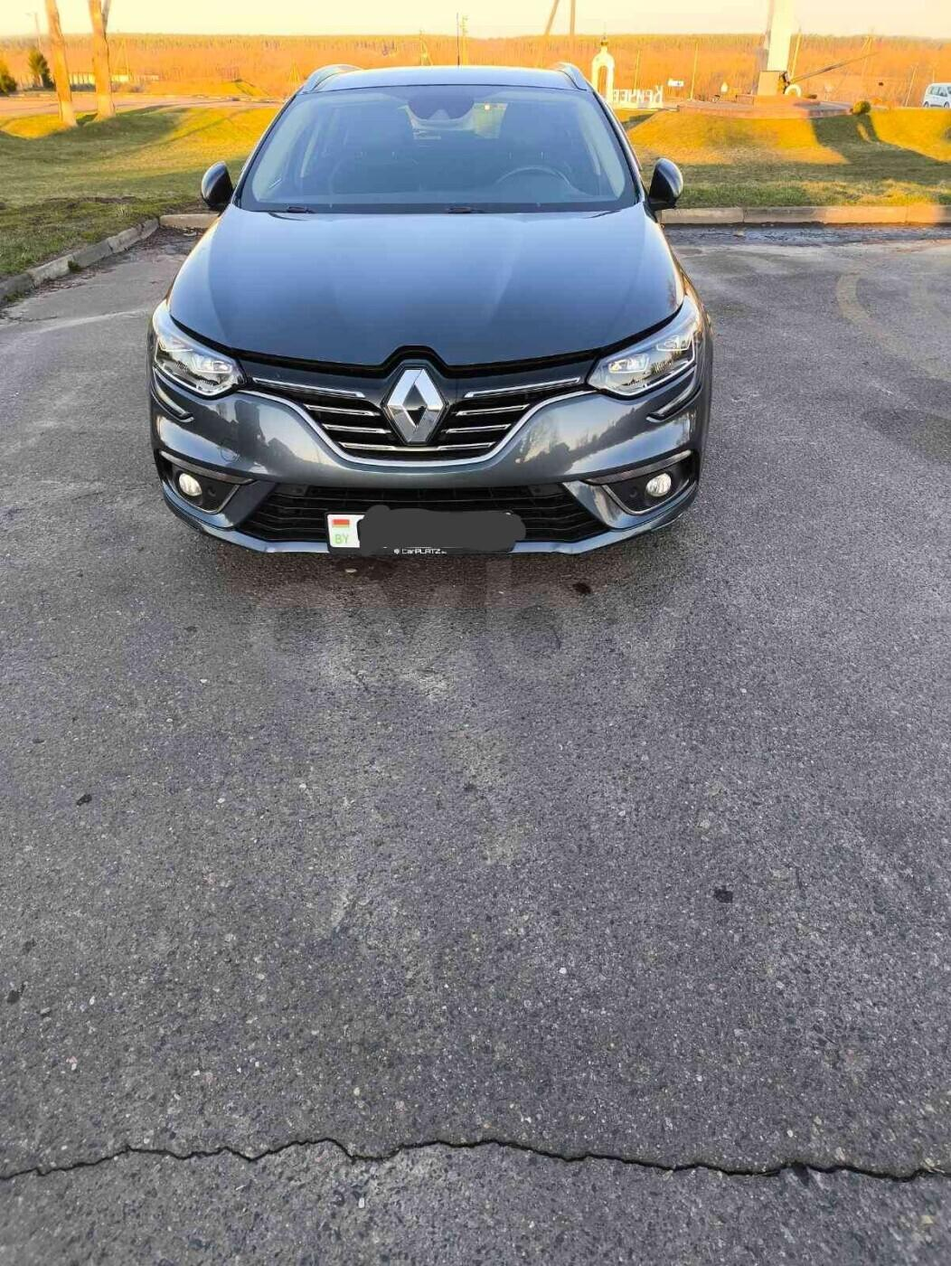Megane_2016-2020: (136, 58, 727, 570)
